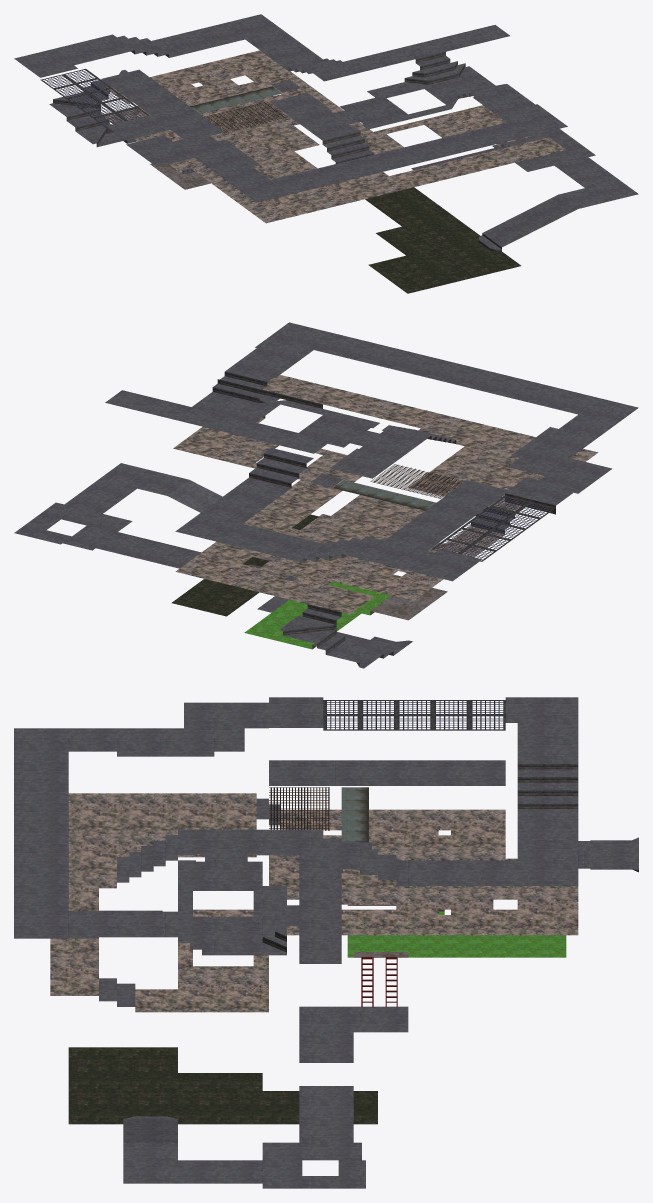
Rendered from Land.FBX.
The picture shows the model from 3 angles, top to bottom: view 1: azimuth 30°, elevation 25°; view 2: azimuth 150°, elevation 25°; view 3: azimuth 270°, elevation 25°; orthographic projection. The views are drawn at different scales.
Parts seen in each view (by area): view 1: test_map001; view 2: test_map001; view 3: test_map001.
Part boxes in pixels (x1,y1,x2,y2): test_map001: (14, 14, 638, 293); test_map001: (14, 322, 638, 668); test_map001: (14, 697, 638, 1188).
Bounding box in the file's own units: 1968 × 608 × 1648.
Materials: 11 (11 with a texture image).
